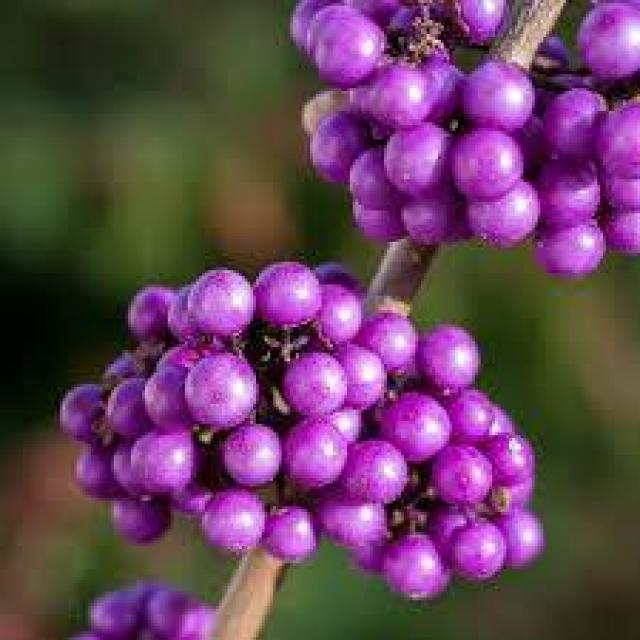organic waste: (57, 256, 552, 600), (293, 3, 640, 264)
